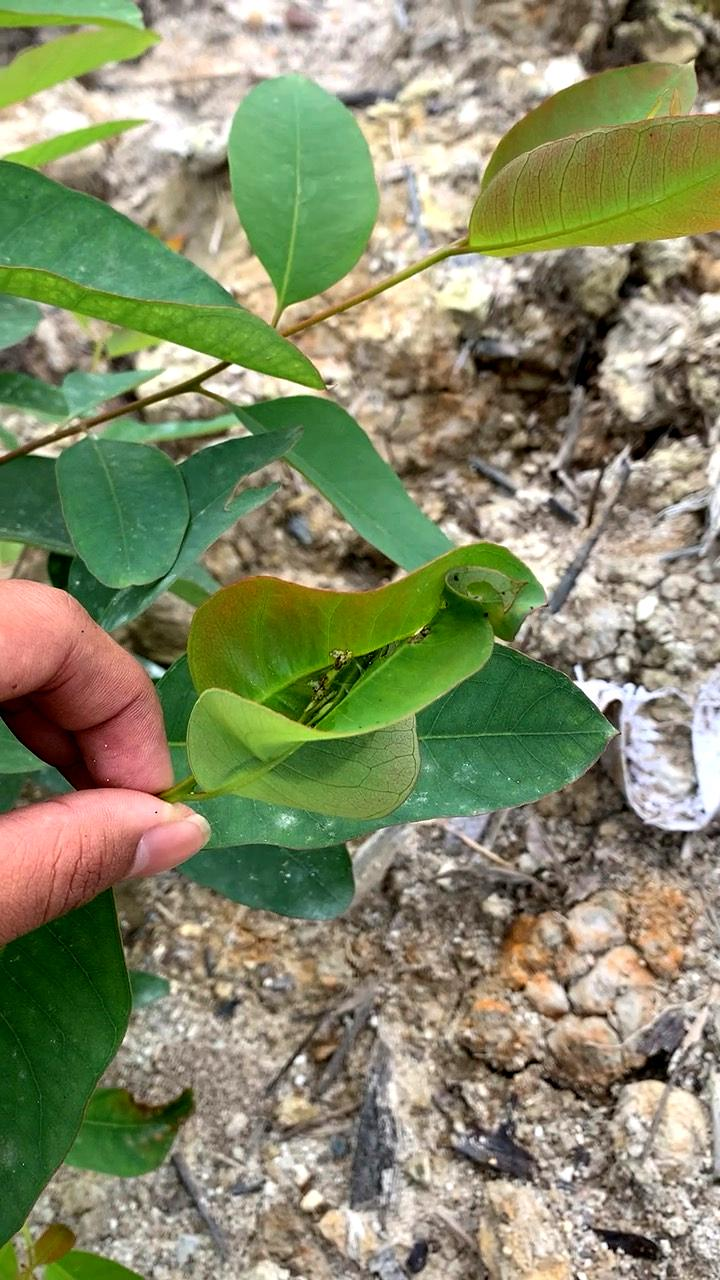Leaf Roller - Leaf: (131, 525, 565, 828)
